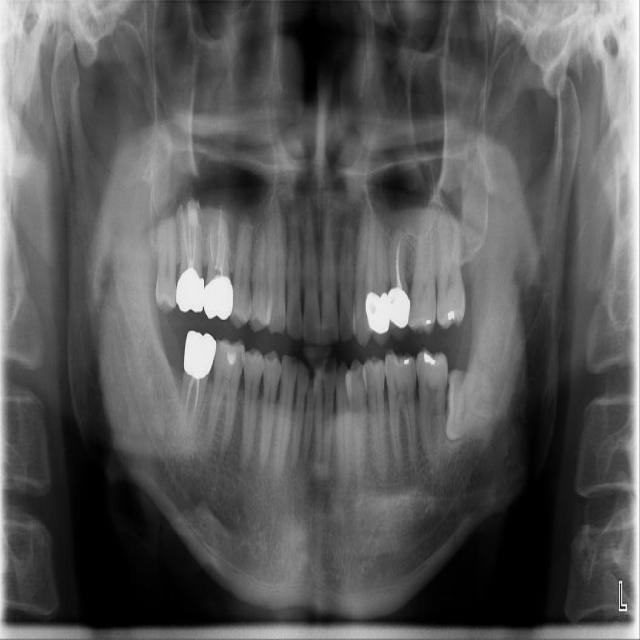Crown: (176, 270, 233, 320), (184, 331, 217, 381), (386, 288, 414, 343), (365, 291, 391, 347)
Filling: (222, 342, 239, 364), (423, 350, 437, 365), (446, 310, 457, 322), (401, 355, 412, 366), (424, 318, 432, 326)
Root Canal Treatment: (179, 209, 189, 261), (192, 379, 199, 425), (395, 236, 402, 282), (209, 223, 215, 266), (221, 223, 225, 269), (189, 205, 192, 261), (182, 393, 187, 424), (194, 207, 196, 260), (219, 205, 222, 240), (187, 381, 193, 393), (218, 240, 219, 264)
impacted tooth: (446, 370, 509, 438)
